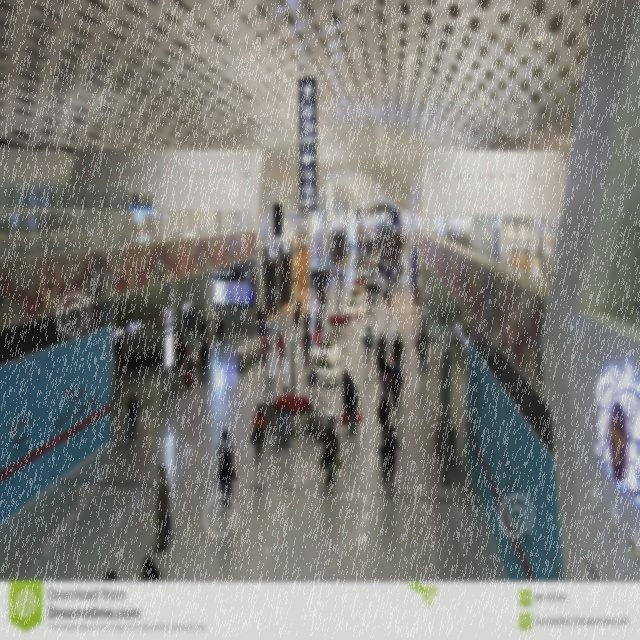pessoa: (216, 428, 238, 512), (152, 463, 172, 552), (379, 425, 401, 499), (340, 376, 363, 437), (322, 414, 340, 486), (249, 402, 267, 462), (360, 222, 405, 242), (126, 392, 142, 448), (356, 242, 403, 260), (390, 356, 405, 412), (416, 328, 430, 374), (361, 325, 377, 364), (197, 340, 211, 384), (376, 394, 392, 432), (381, 362, 393, 412), (379, 258, 399, 286), (391, 332, 406, 368), (140, 556, 162, 580), (376, 338, 388, 382), (259, 329, 272, 369), (176, 334, 189, 374), (378, 400, 390, 443), (114, 334, 125, 380), (300, 327, 312, 369), (342, 369, 355, 407), (275, 330, 287, 370), (196, 321, 209, 357), (186, 340, 196, 380), (214, 309, 225, 345), (278, 386, 294, 410), (292, 296, 302, 328), (306, 366, 320, 386), (382, 284, 392, 312), (376, 332, 388, 355), (302, 309, 312, 336), (100, 568, 119, 582), (366, 286, 374, 314), (373, 281, 382, 305), (314, 322, 322, 348), (316, 278, 324, 304), (369, 279, 376, 307), (319, 286, 326, 314), (257, 304, 264, 330), (258, 320, 268, 338), (324, 266, 332, 288), (316, 266, 324, 288), (313, 311, 321, 332), (364, 280, 371, 302), (392, 268, 398, 290), (384, 268, 390, 290), (338, 274, 344, 295), (309, 266, 315, 286), (321, 268, 327, 288), (320, 286, 326, 306), (314, 264, 319, 286), (340, 264, 346, 282), (346, 246, 352, 262), (371, 264, 376, 283), (397, 262, 402, 280), (380, 262, 385, 280), (377, 260, 382, 277), (336, 262, 340, 280), (356, 256, 360, 272), (440, 315, 447, 324), (360, 254, 364, 269), (352, 254, 356, 269), (346, 240, 350, 250), (361, 241, 364, 251)
